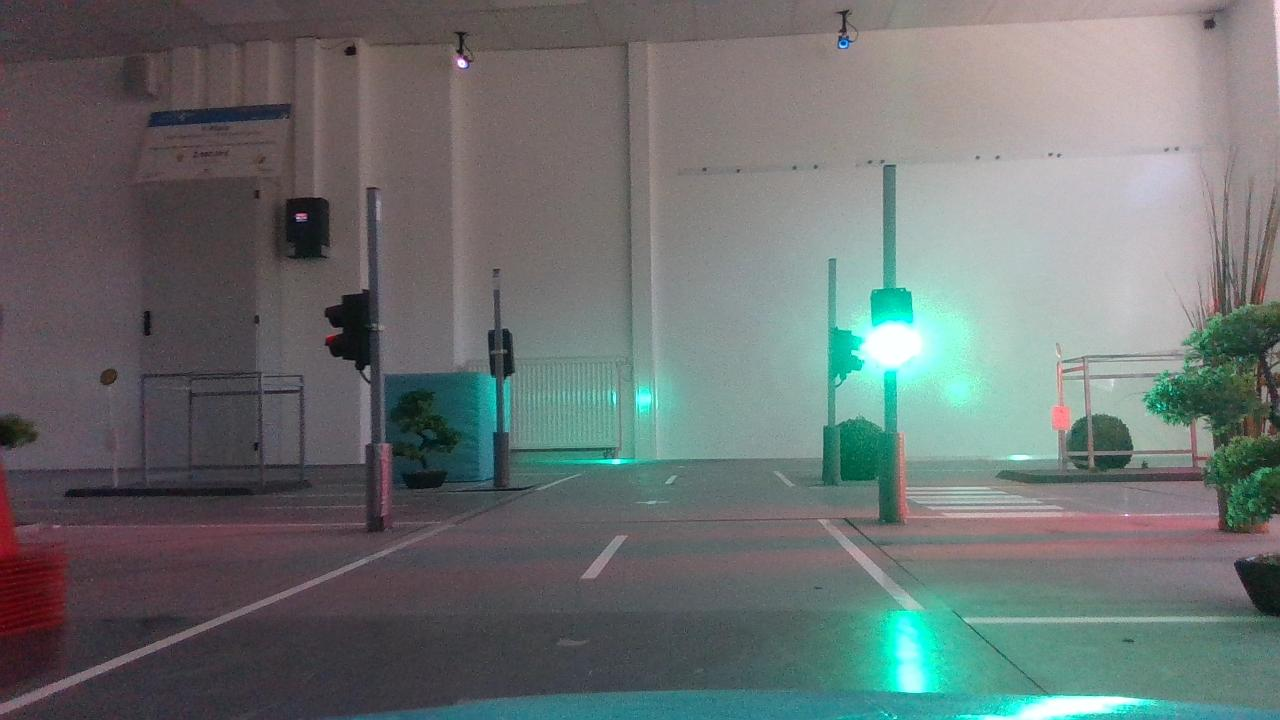traffic_light_green: (859, 282, 932, 382)
